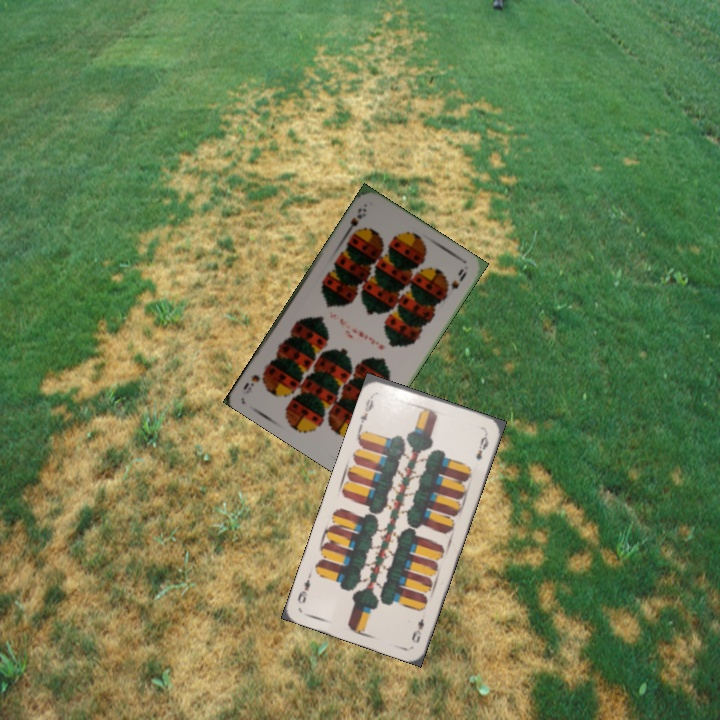E9: (356, 390, 378, 429), (407, 614, 427, 645)
S9: (341, 204, 369, 238)
